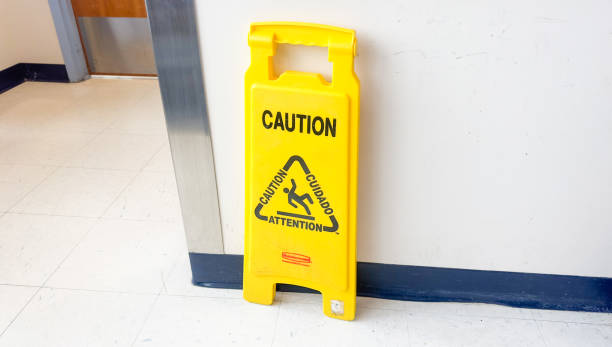wet caution sign: (227, 0, 363, 337)
